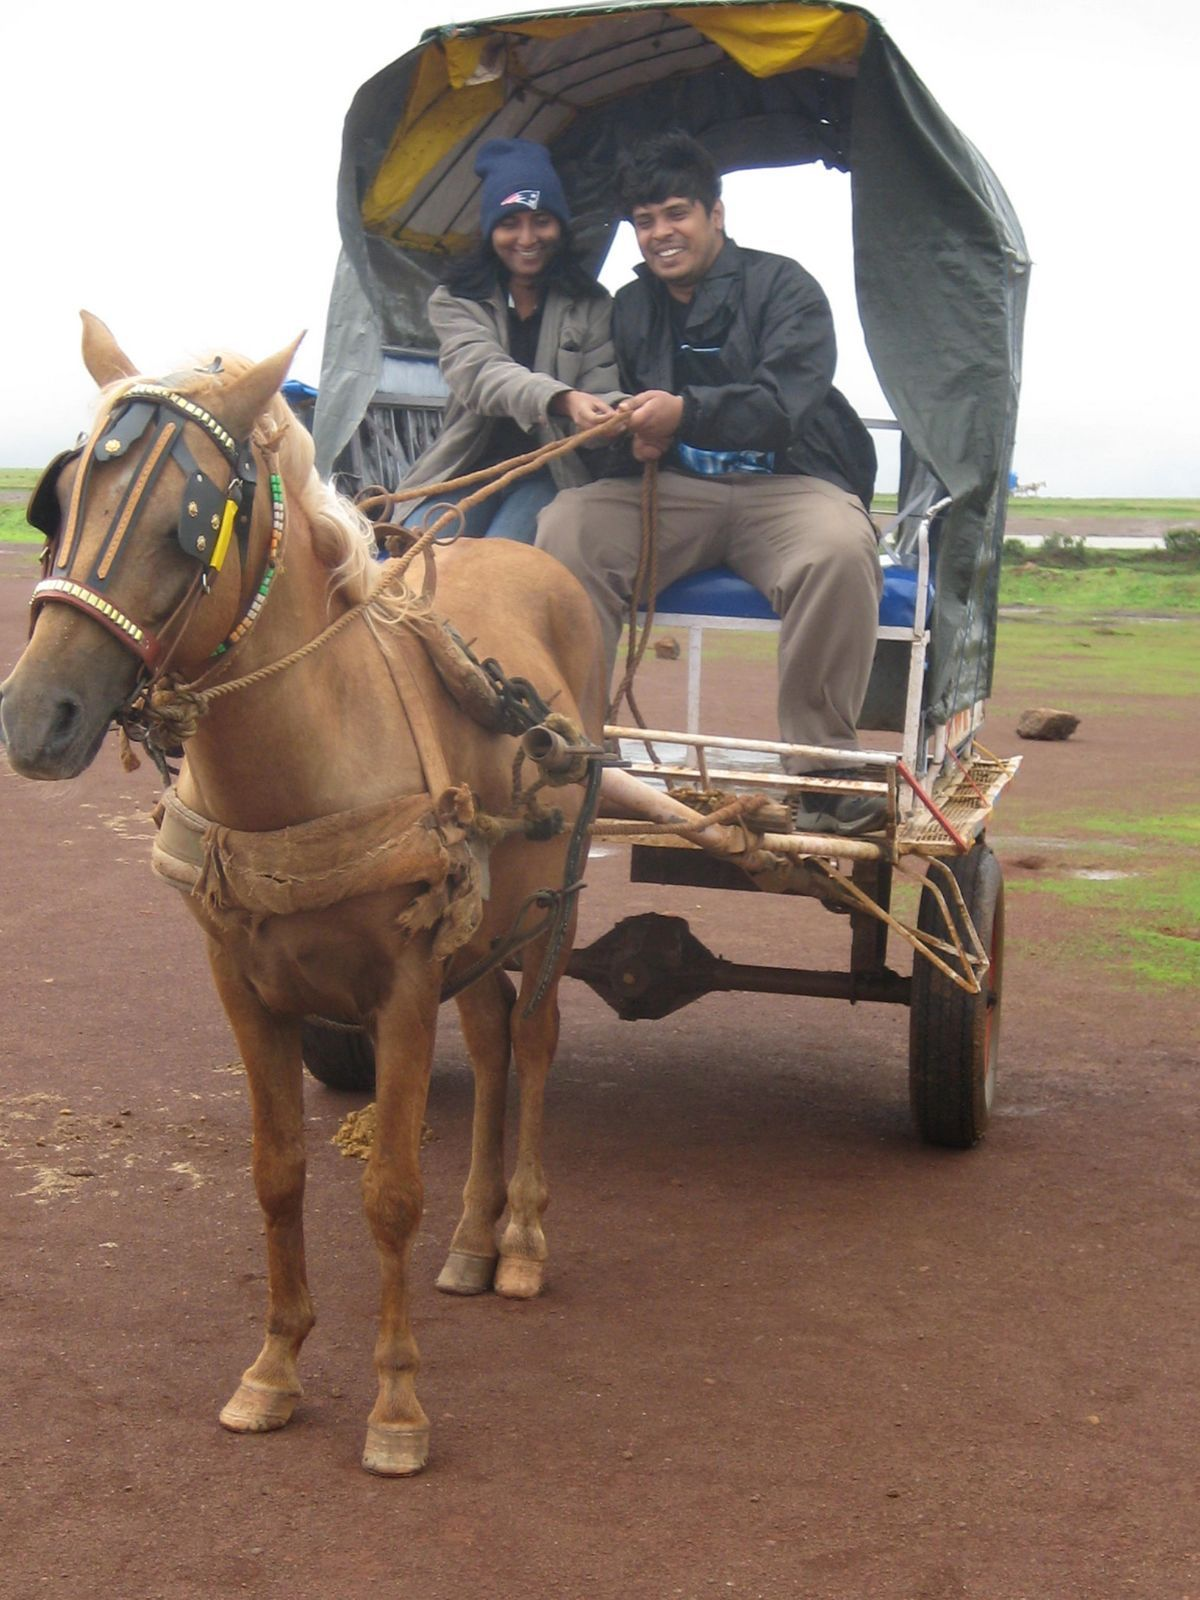horse: (3, 316, 672, 1495)
